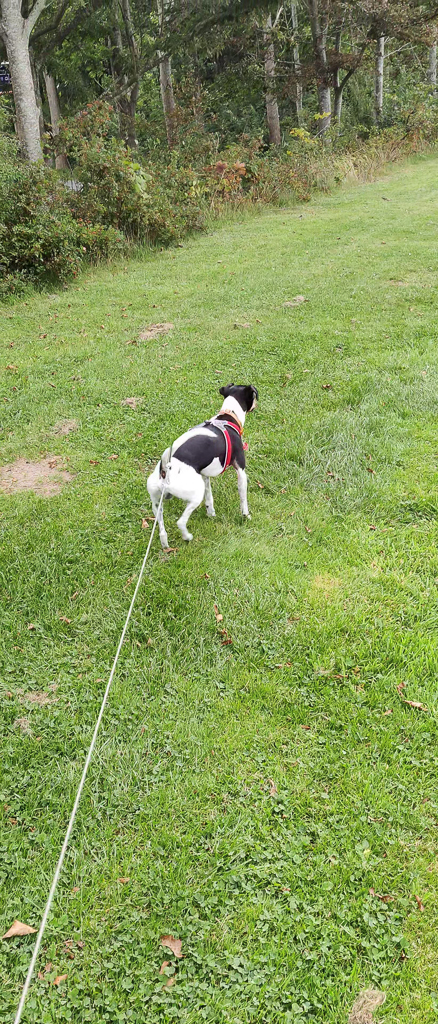Dog: (136, 369, 267, 557)
